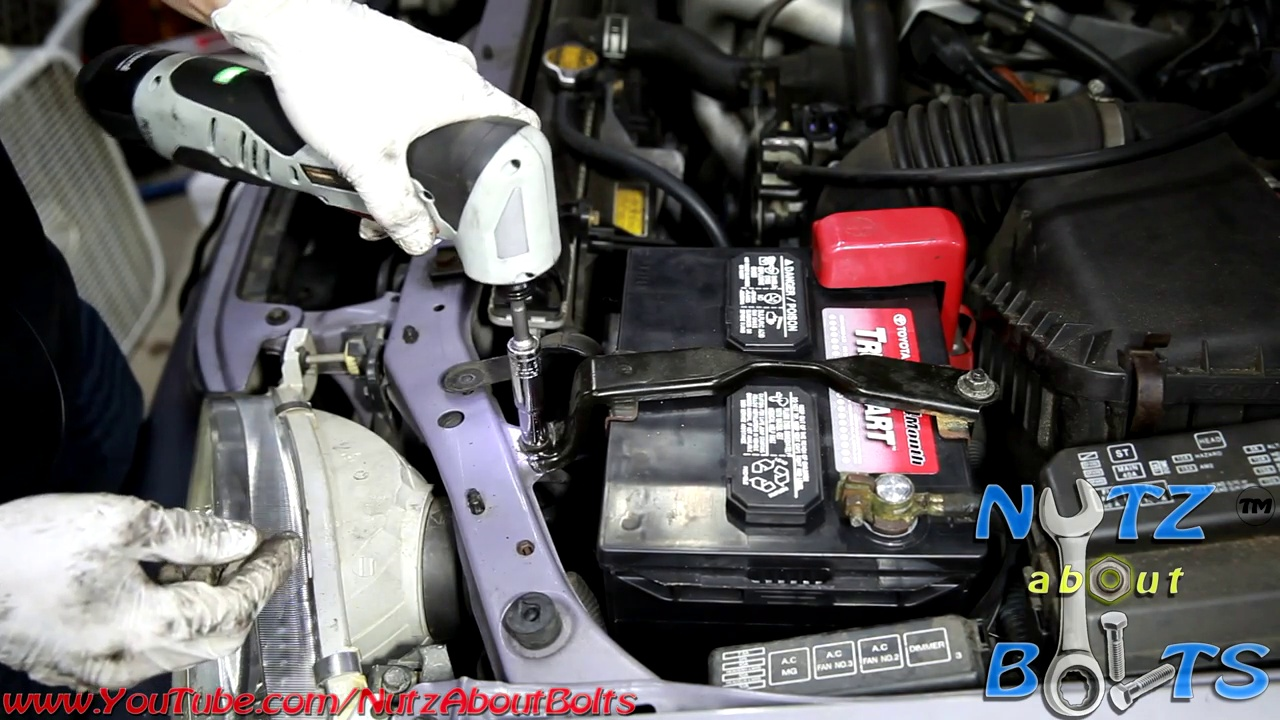battery: (615, 225, 987, 586)
neg_connected: (838, 463, 980, 555)
pos_connected: (806, 203, 989, 346)
